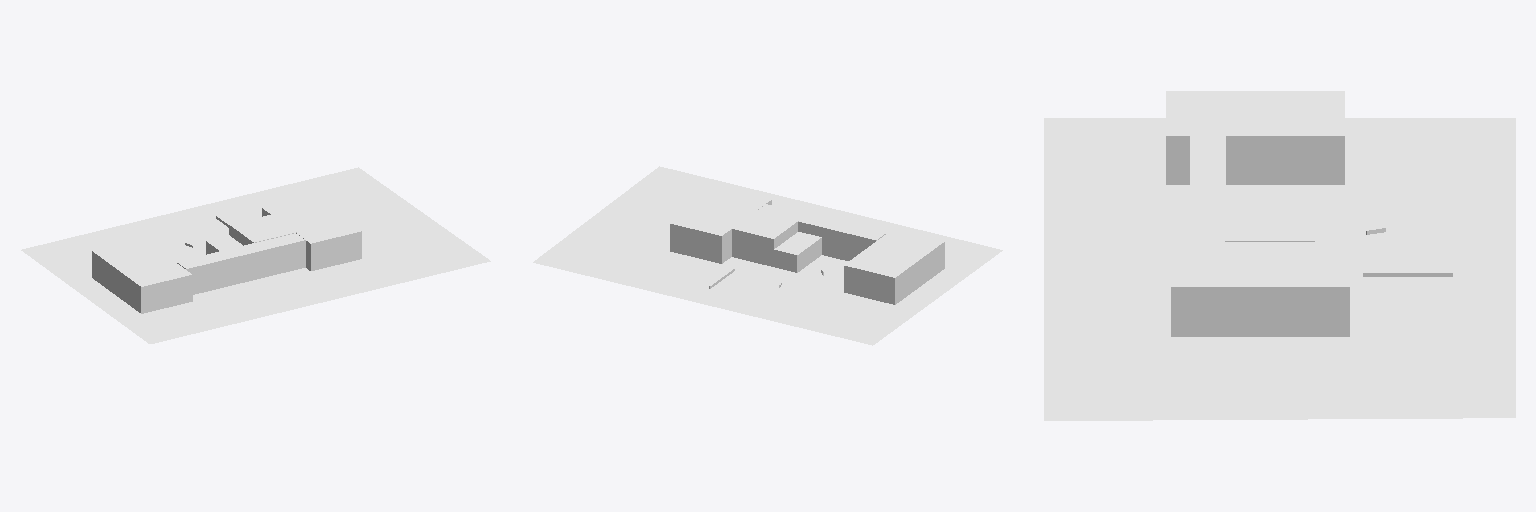
robot.urdf — stair_bauzil:
<robot name="stair_bauzil">
  <link name="base_link">
    <visual>
      <origin xyz="0 0 0" rpy="0 0 0" />
      <geometry>
        <mesh filename="package://hpp-rbprm-corba/meshes/floor_bauzil_obstacles.stl"/>
      </geometry>
      <material name="white">
        <color rgba="1 1 1 1"/>
      </material>
    </visual>
    <collision>
      <origin xyz="0 0 0" rpy="0 0 0" />
      <geometry>
        <mesh filename="package://hpp-rbprm-corba/meshes/floor_bauzil_obstacles.stl"/>
      </geometry>
    </collision>
  </link>
</robot>

--- Facts derived from the render (not from the file) ---
3 views of the same robot in one strip: view 1: azimuth 30°, elevation 25°; view 2: azimuth 150°, elevation 25°; view 3: azimuth 270°, elevation 25° (orthographic).
Model stair_bauzil with 1 links and 0 joints (none), rooted at base_link, posed all joints at 0.
Visible links, largest first — view 1: base_link; view 2: base_link; view 3: base_link.
Link boxes in pixels (x1,y1,x2,y2): base_link: (21,167,490,343); base_link: (533,166,1002,345); base_link: (1044,91,1515,420).
Bounding box of the posed robot: 8 × 5.25 × 0.6559 m (x, y, z).
1 mesh visuals loaded from 1 distinct referenced files (1 binary STL).